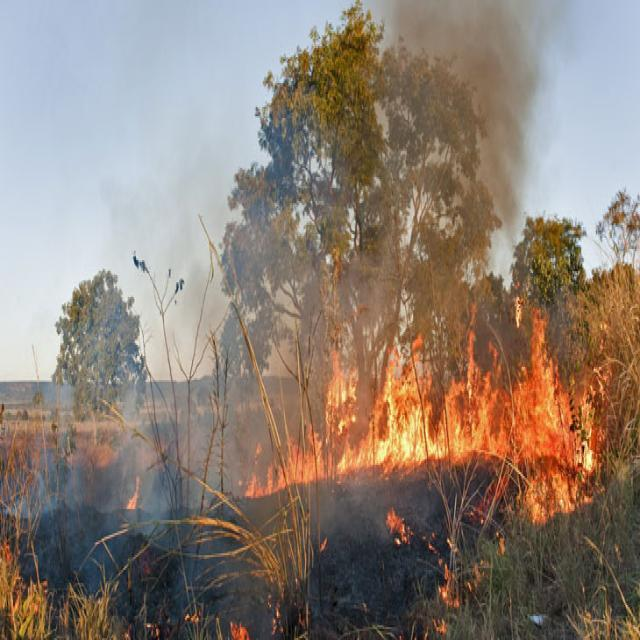Fire: (236, 312, 598, 501), (438, 540, 462, 614), (384, 508, 414, 546), (228, 617, 252, 640), (126, 474, 140, 508)
Smoke: (338, 0, 551, 309)
